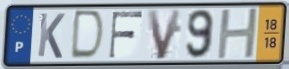9: (185, 8, 216, 61)
D: (68, 9, 107, 62)
F: (107, 10, 145, 61)
H: (215, 6, 261, 61)
K: (36, 11, 67, 61)
V: (145, 7, 184, 62)
